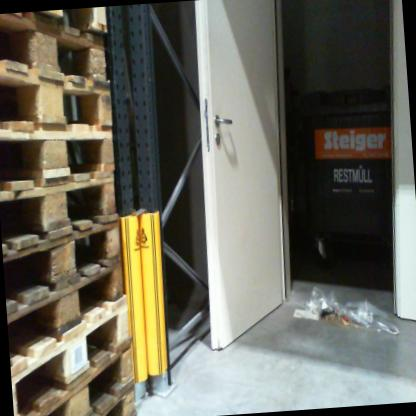pallet: (6, 254, 140, 376), (8, 295, 141, 416), (2, 214, 132, 335), (0, 168, 122, 273), (0, 45, 119, 137), (25, 333, 153, 416), (0, 8, 116, 99), (0, 111, 117, 184), (0, 8, 110, 43), (96, 380, 145, 416)
